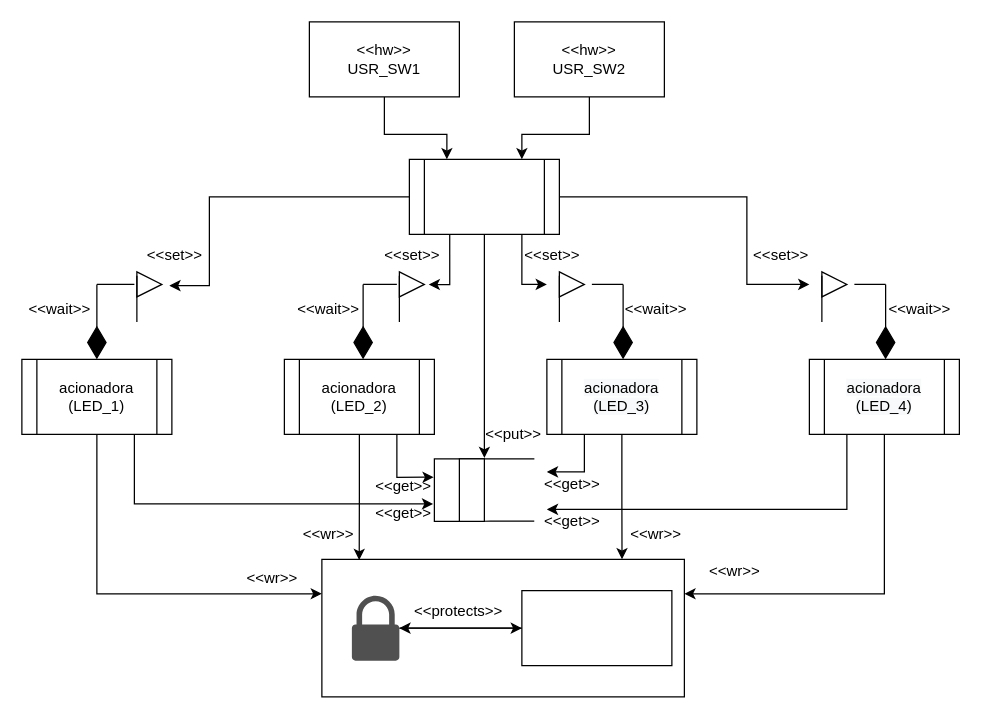
This 981x719 diagram has some shape labels left out. Here are the shapes that lost their labels. From the top down, the box of each, then its label:
(408, 158, 559, 234): controladora
(521, 589, 672, 666): <<hw>> LEDs
